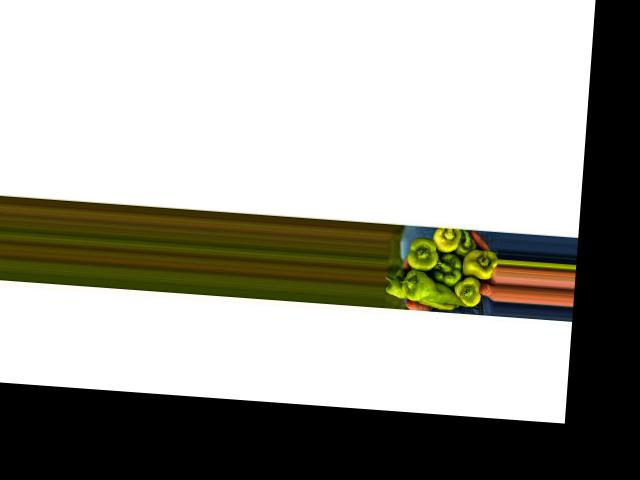bell_pepper: (460, 245, 497, 278)
